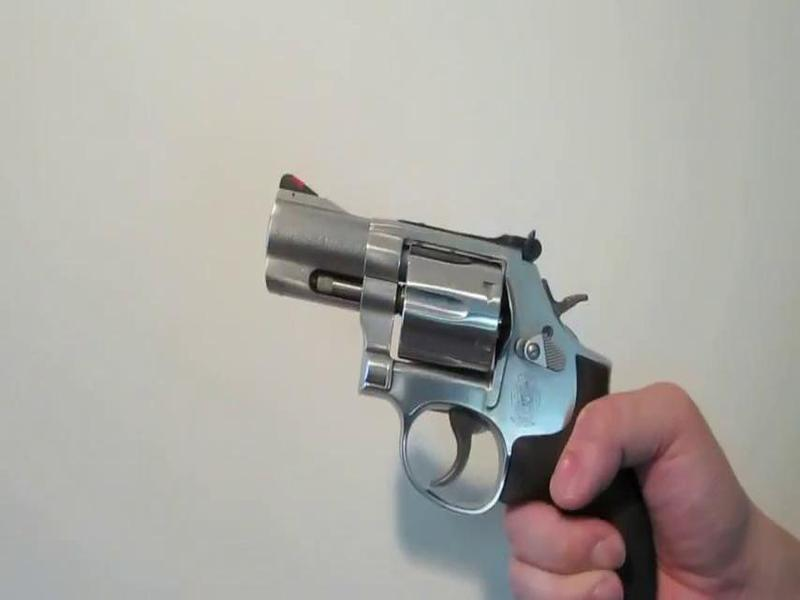Revolver: (229, 143, 671, 559)
